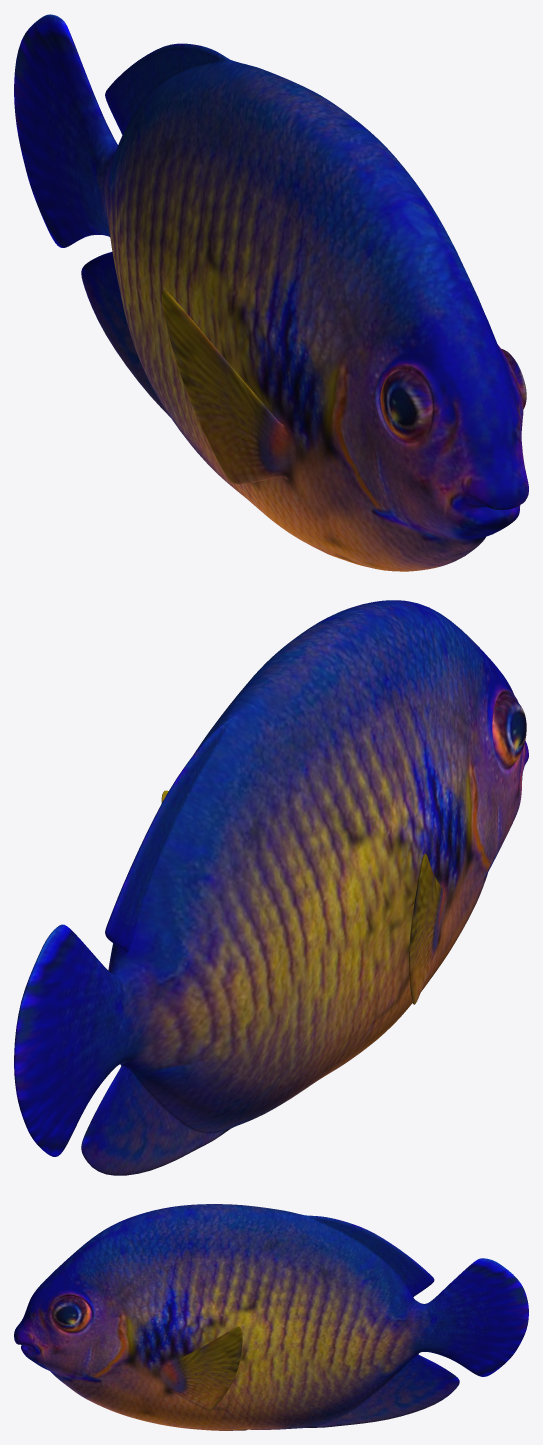
Rendered from coralBeautyFishModel.glb.
The picture shows the model from 3 angles, top to bottom: view 1: azimuth 30°, elevation 25°; view 2: azimuth 150°, elevation 25°; view 3: azimuth 270°, elevation 25°; orthographic projection. The views are drawn at different scales.
Visible parts, largest first — view 1: 13009_Coral_Beauty_Angelfish_v1_l3; view 2: 13009_Coral_Beauty_Angelfish_v1_l3; view 3: 13009_Coral_Beauty_Angelfish_v1_l3.
Part boxes in pixels (x1,y1,x2,y2): 13009_Coral_Beauty_Angelfish_v1_l3: [14, 14, 528, 571]; 13009_Coral_Beauty_Angelfish_v1_l3: [14, 600, 528, 1175]; 13009_Coral_Beauty_Angelfish_v1_l3: [14, 1204, 528, 1430].
Size of the model in its own units: 0.369 by 0.5823 by 1.21.
Materials: 1 (1 with a texture image).
